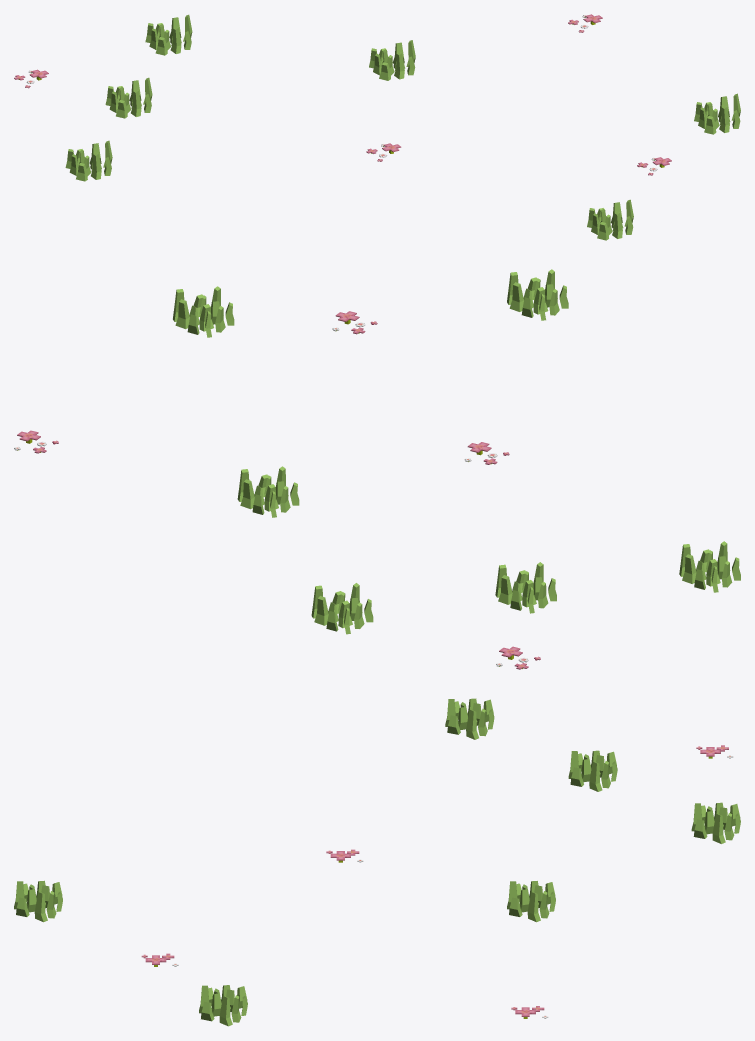
Rendered from flower_grass 26.fbx.
3 renders of one model, top to bottom at view 1: azimuth 30°, elevation 25°; view 2: azimuth 150°, elevation 25°; view 3: azimuth 270°, elevation 25°, orthographic. The views are drawn at different scales.
Visible parts, largest first — view 1: Flower_B_3; view 2: Flower_B_3; view 3: Flower_B_3.
Part boxes in pixels (left/top/right/bottom): Flower_B_3: left=14, top=14, right=740, bottom=240; Flower_B_3: left=14, top=269, right=740, bottom=669; Flower_B_3: left=14, top=698, right=740, bottom=1026.
Bounding box in the file's own units: 7146 × 294 × 7079.
Materials: 2 (2 with a texture image).
